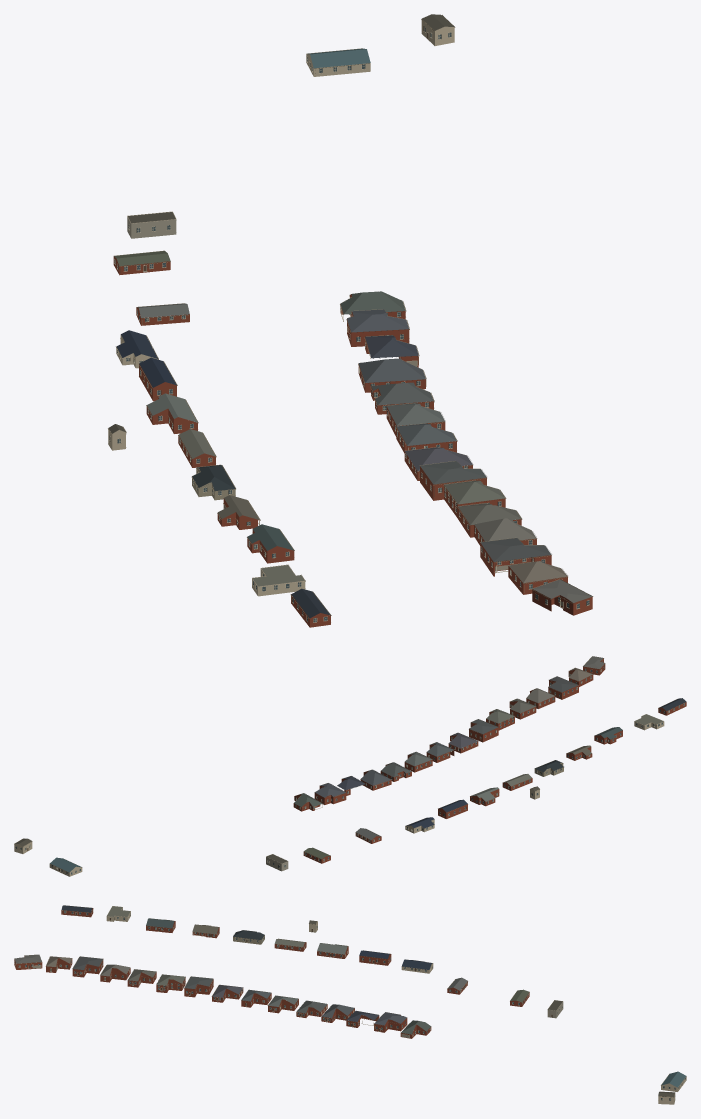
3 renders of one model, top to bottom at view 1: azimuth 30°, elevation 25°; view 2: azimuth 150°, elevation 25°; view 3: azimuth 270°, elevation 25°, orthographic. The views are drawn at different scales.
Visible parts, largest first — view 1: -1_8_605678108_1, -1_8_607958300_3; view 2: -1_8_605678108_1, -1_8_607958300_3; view 3: -1_8_605678108_1, -1_8_607958300_3.
Boxes of the visible parts, left/top/right/bottom form: -1_8_605678108_1: left=108, top=14, right=593, bottom=622; -1_8_607958300_3: left=113, top=256, right=592, bottom=627; -1_8_605678108_1: left=14, top=656, right=686, bottom=876; -1_8_607958300_3: left=293, top=658, right=686, bottom=863; -1_8_605678108_1: left=14, top=905, right=686, bottom=1104; -1_8_607958300_3: left=14, top=908, right=529, bottom=1038.
Bounding box in the file's own units: 299 × 22.55 × 466.
